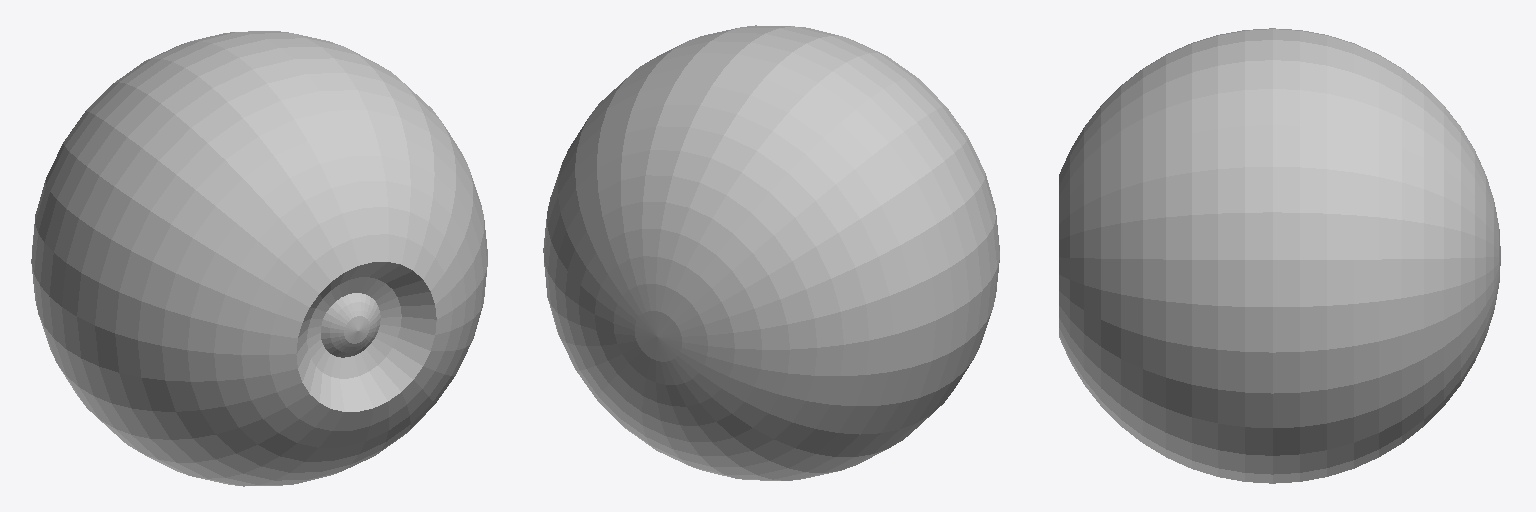
File: Eye.obj
The picture shows the model from 3 angles: view 1: azimuth 30°, elevation 25°; view 2: azimuth 150°, elevation 25°; view 3: azimuth 270°, elevation 25°; orthographic projection.
Visible parts, largest first — view 1: Eye; view 2: Eye; view 3: Eye.
Part boxes in pixels (x1,y1,x2,y2): Eye: (31, 31, 487, 486); Eye: (543, 25, 999, 480); Eye: (1059, 28, 1500, 483).
Bounding box in the file's own units: 2 × 1.99 × 1.94.